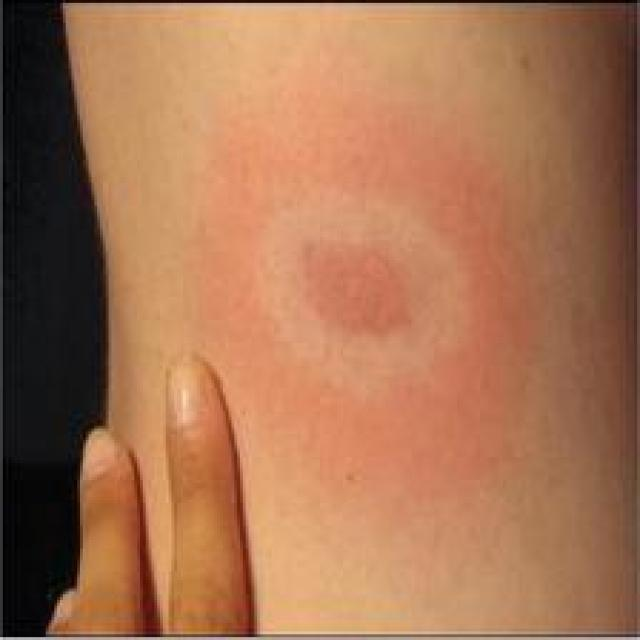kene: (164, 52, 602, 559)
